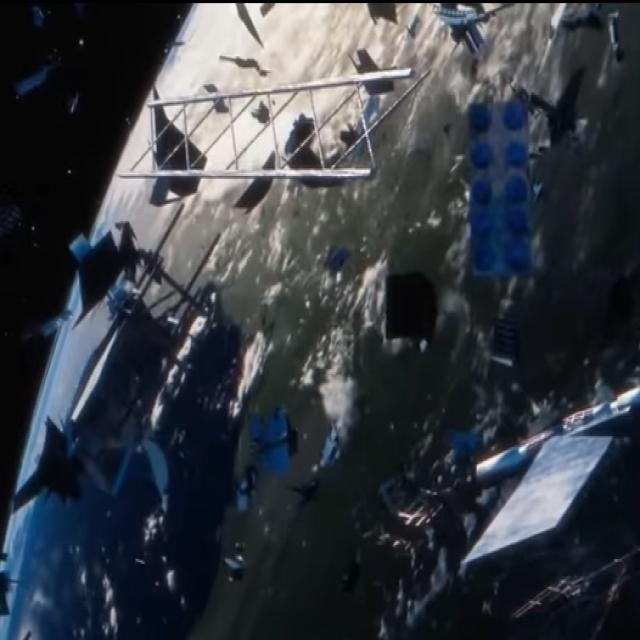large_debris: (3, 204, 293, 532), (436, 362, 640, 577), (108, 52, 402, 200), (452, 80, 544, 308), (430, 0, 503, 56)
